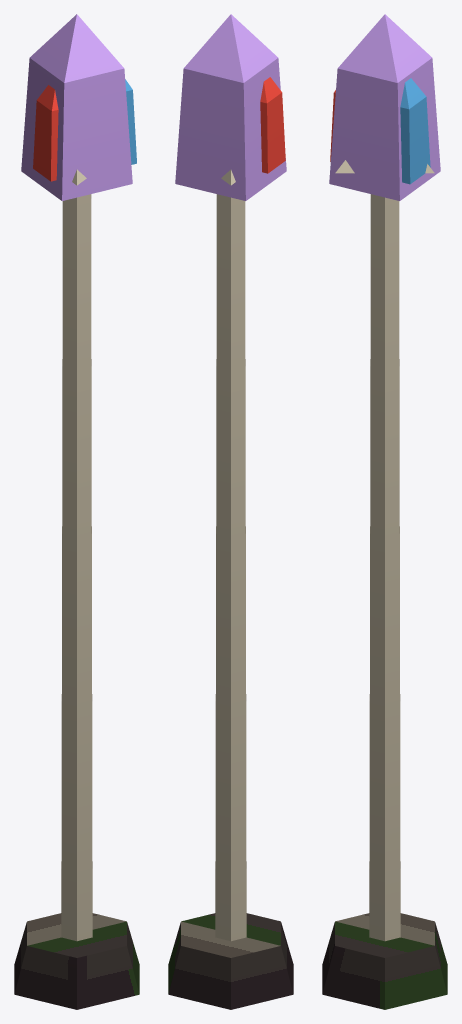
Rendered from prism_lantern.glb.
3 renders of one model, left to right at view 1: azimuth 30°, elevation 25°; view 2: azimuth 150°, elevation 25°; view 3: azimuth 330°, elevation 25°, orthographic.
Visible parts, largest first — view 1: prism_lantern; view 2: prism_lantern; view 3: prism_lantern.
Part boxes in pixels (bbox=[...]): prism_lantern: bbox=[14, 14, 139, 1009]; prism_lantern: bbox=[168, 14, 293, 1009]; prism_lantern: bbox=[322, 14, 447, 1009].
Bounding box in the file's own units: 0.4 × 2.95 × 0.3464.
Materials: 3 (1 with a texture image).
